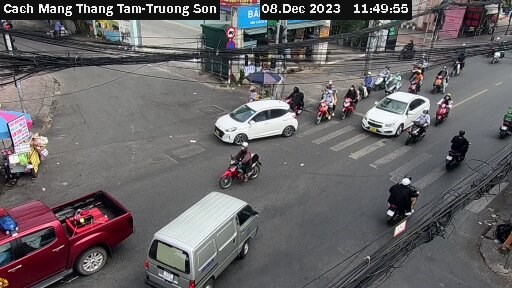car: (1, 180, 134, 284), (144, 191, 259, 288), (214, 98, 296, 144), (362, 90, 427, 138)
motorbike: (215, 146, 267, 191), (378, 180, 428, 218), (438, 129, 476, 176), (432, 92, 461, 130), (311, 96, 339, 132), (450, 46, 475, 83), (492, 98, 512, 142), (434, 62, 456, 100), (336, 88, 357, 121), (405, 68, 428, 94)
